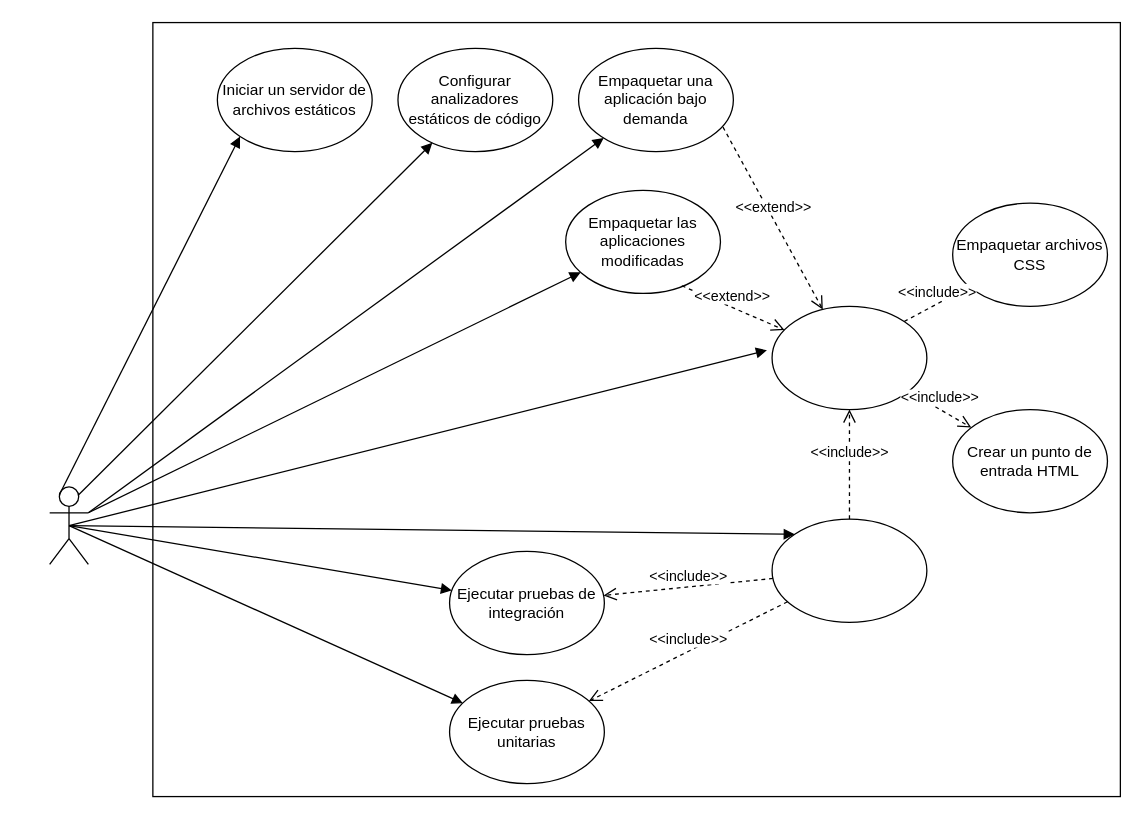
Some shapes in this 1143 by 819 pixel diagram are drawn without their labels. Each missing label, with the centre of its shape:
Desarrollador: point (68, 525)
Empaquetar una aplicación: point (849, 357)
Realizar despliegues incrementales: point (849, 570)
